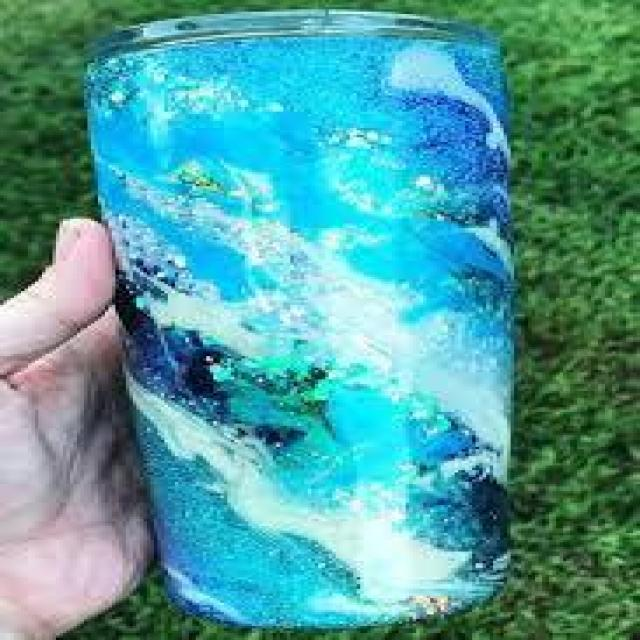bottle: (68, 8, 554, 630)
